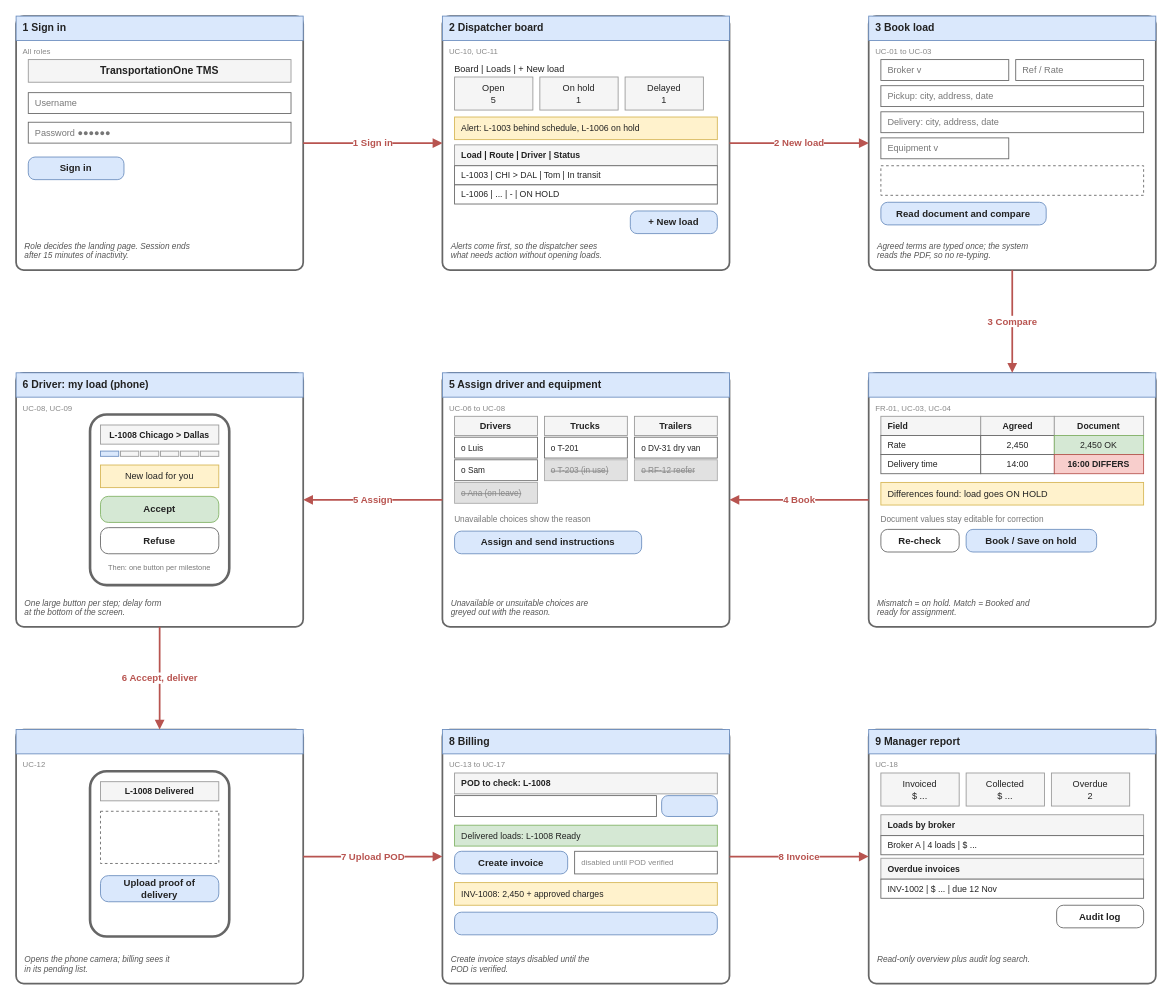
Image size: 1171x999. Some labels were removed from this diagram. Each missing label, with the centre of its shape:
"4 Compare and confirm" goes at (1012,384).
"7 Driver: proof of delivery" goes at (159,741).
"Attach Rate Confirmation (PDF)" goes at (1012,180).
"Photo or PDF of signed delivery document" goes at (159,836).
"Send to broker / Submit to factoring" goes at (585,923).
"Signed and complete v" goes at (555,805).
"Verify" goes at (689,805).
